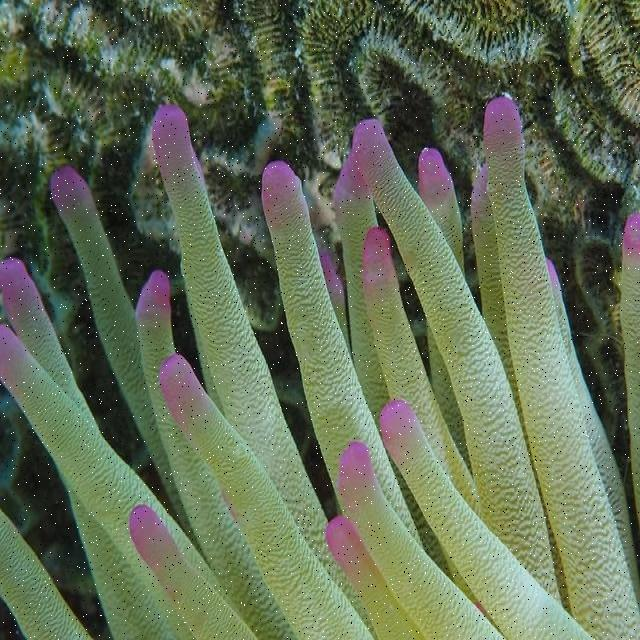reefs: (0, 96, 639, 639), (0, 509, 91, 639), (619, 211, 639, 527)
